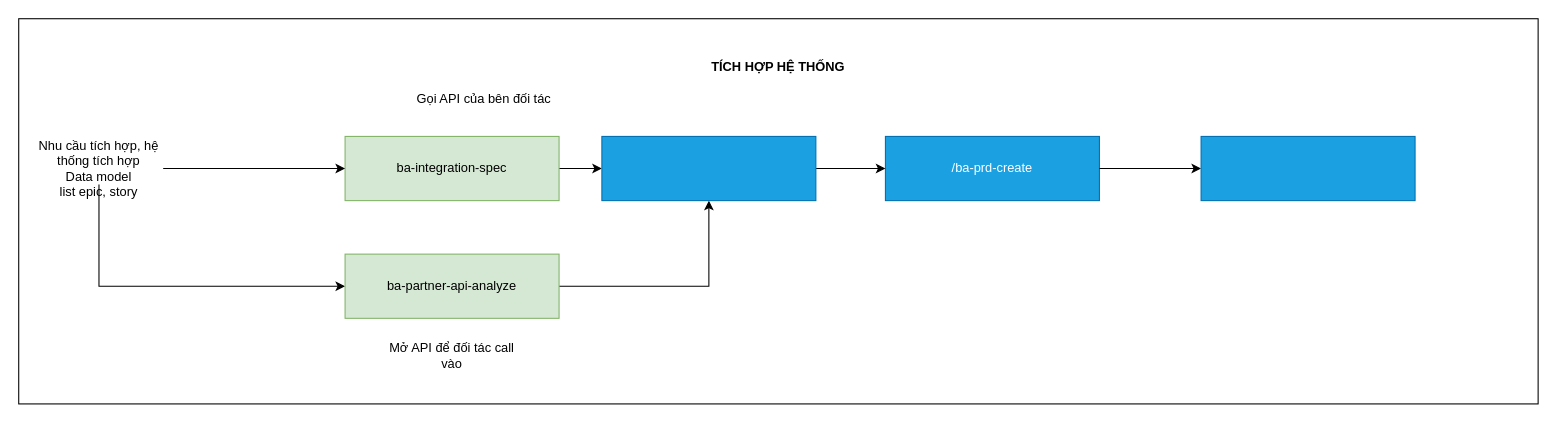
The diagram is 1557 pixels wide and 423 high, and some of its shapes have lost their labels. The centre of each missing label's shape, as x and y in pixels:
"ba-elicitation-process" goes at point (708, 168).
"workflow ba-user-story-spec" goes at point (1307, 168).
